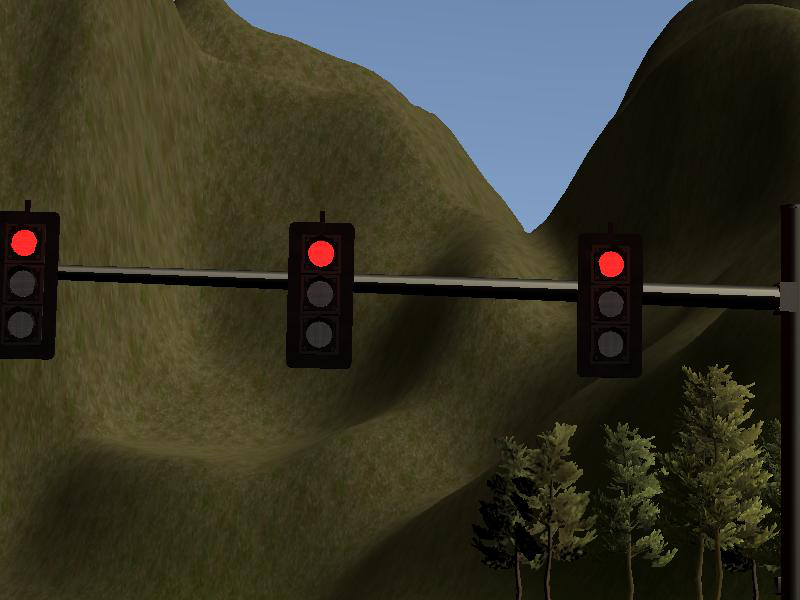red: (288, 222, 352, 371), (1, 208, 62, 362), (580, 234, 641, 377)
